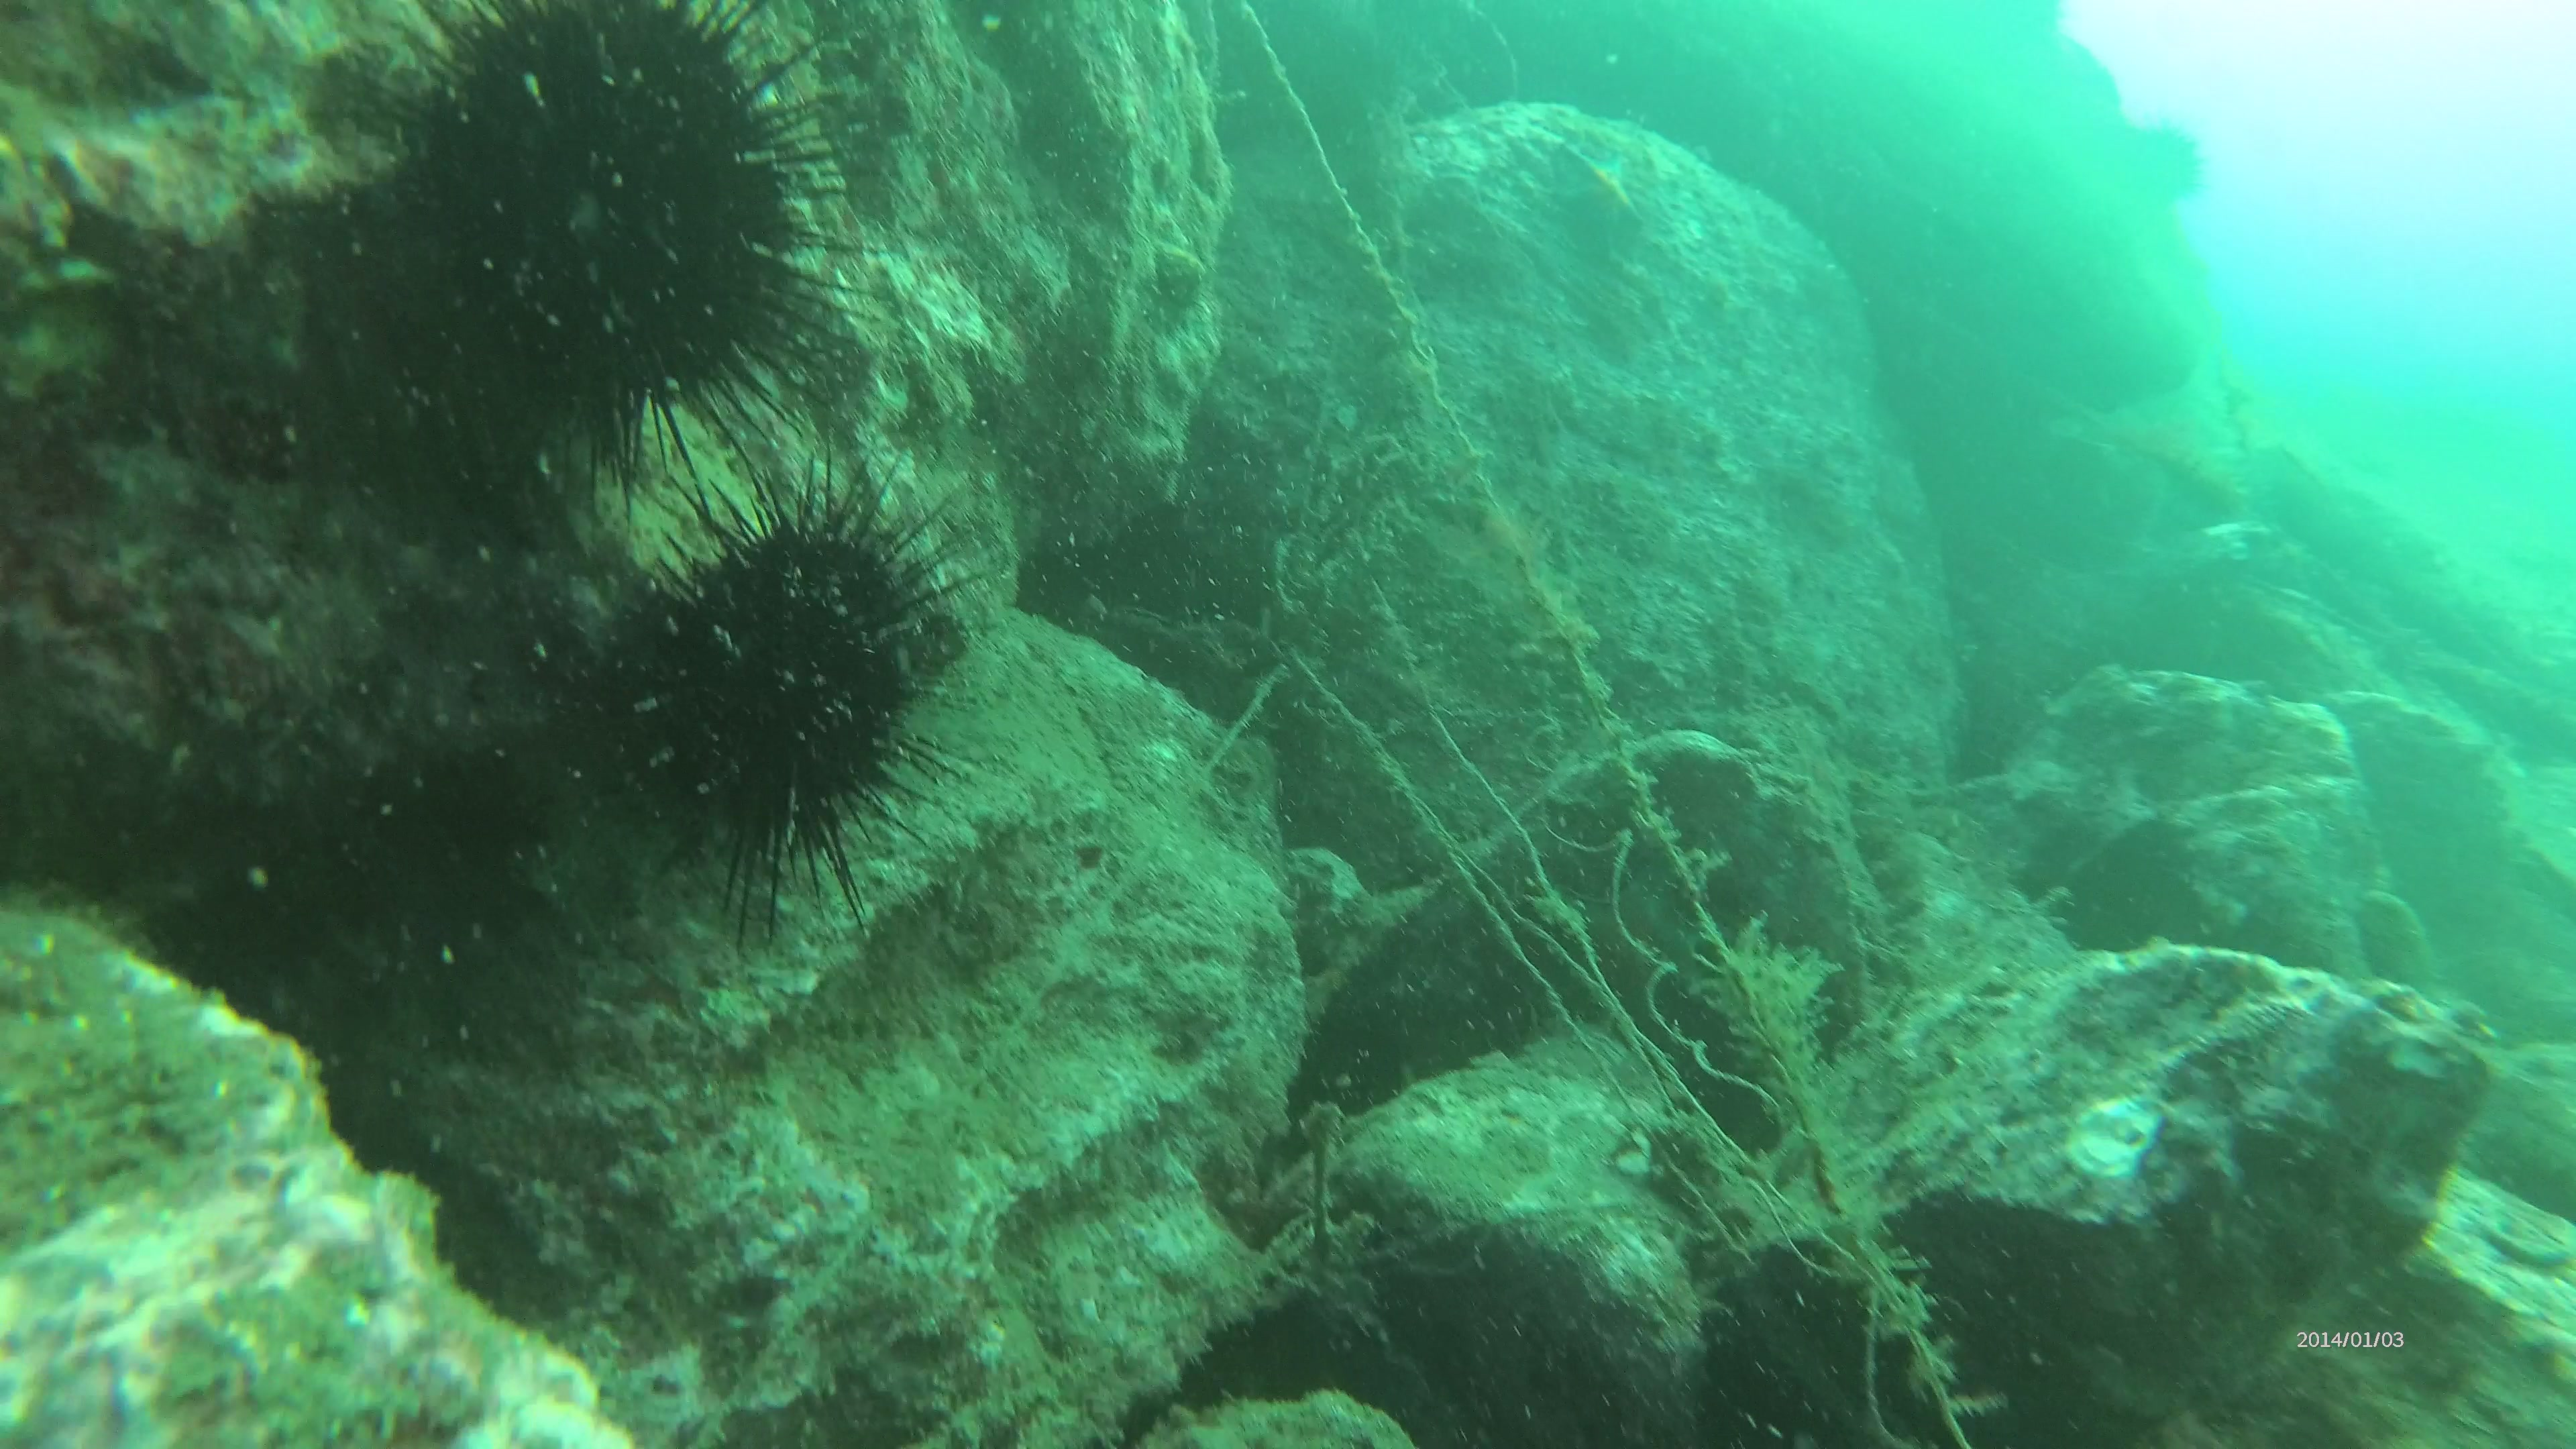echinus: (396, 7, 809, 444), (619, 483, 955, 874)
starfish: (1550, 136, 1651, 253)
